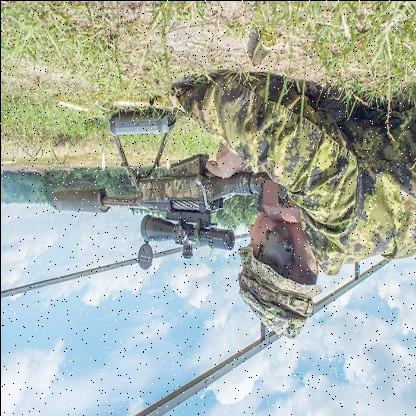rifle: (76, 168, 262, 254)
